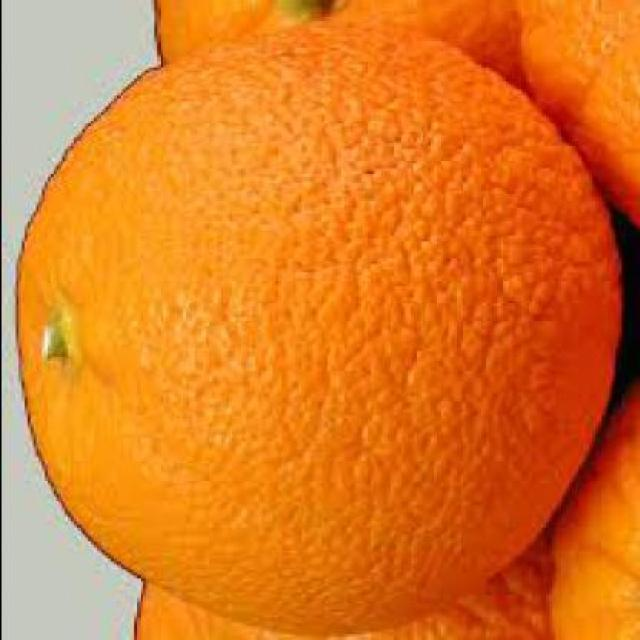BIODEGRADABLE: (17, 23, 620, 631), (126, 500, 548, 638), (156, 0, 522, 85), (518, 0, 640, 226), (551, 385, 640, 640)
